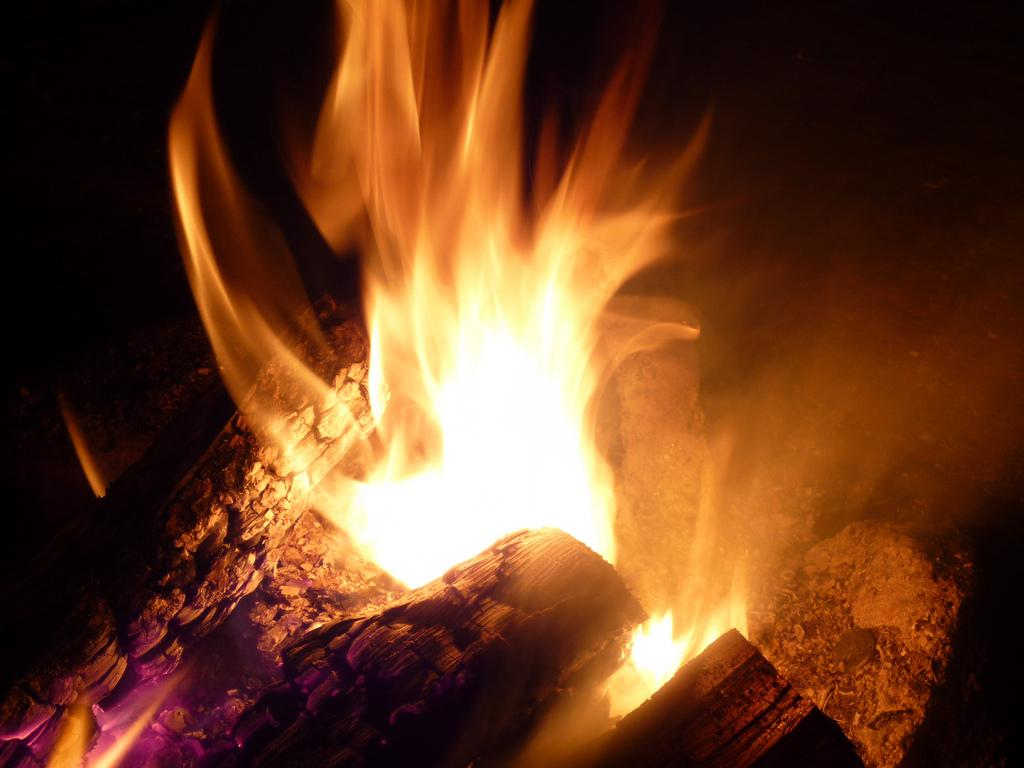fire: (362, 242, 584, 534), (356, 12, 512, 212)
